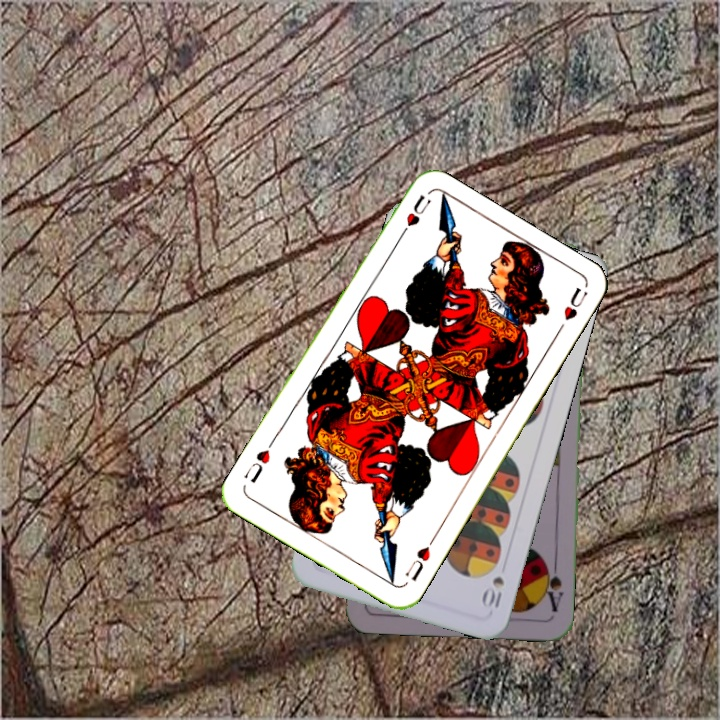HU: (394, 190, 434, 243), (401, 533, 438, 584)
S10: (478, 572, 507, 611)
SA: (539, 556, 566, 615)
